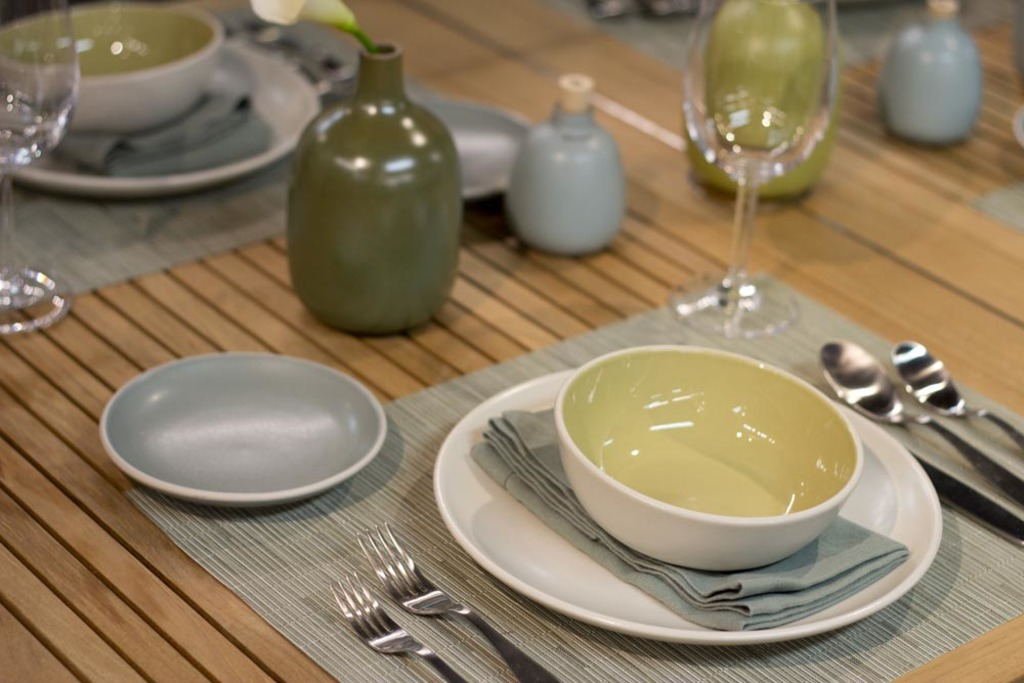plate: (100, 347, 388, 510)
